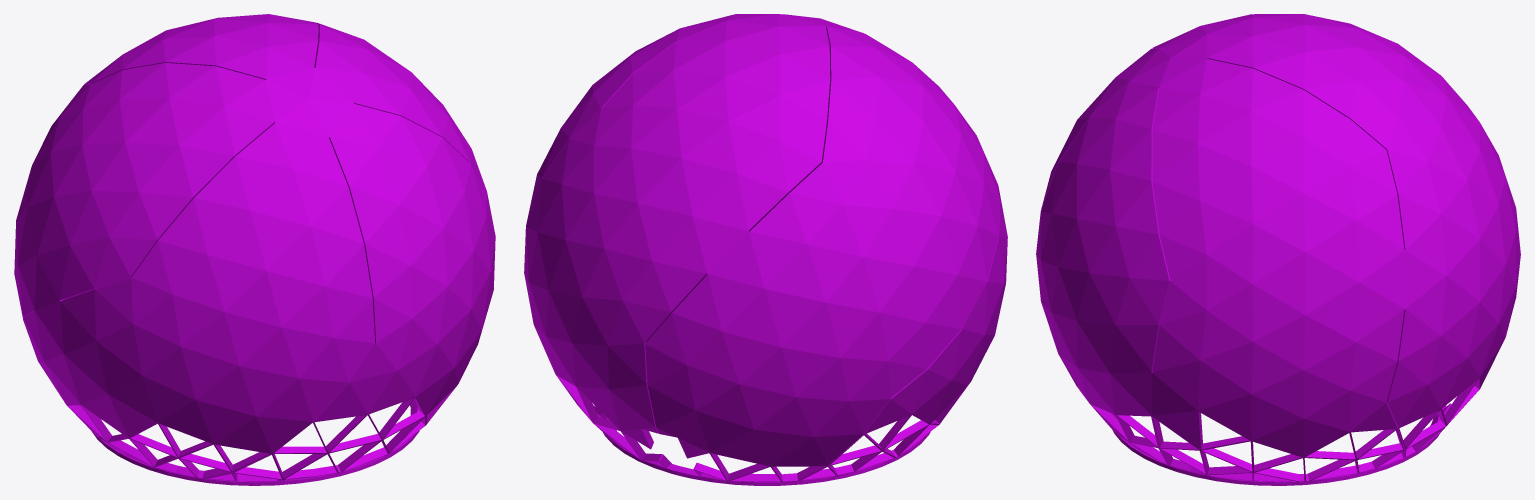
File: Tberg.glb
3 renders of one model, left to right at view 1: azimuth 30°, elevation 25°; view 2: azimuth 150°, elevation 25°; view 3: azimuth 270°, elevation 25°, orthographic.
Parts seen in each view (by area): view 1: Tberg Dome.STL; view 2: Tberg Dome.STL; view 3: Tberg Dome.STL.
Part boxes in pixels (bbox=[...]): Tberg Dome.STL: bbox=[14, 14, 495, 485]; Tberg Dome.STL: bbox=[524, 14, 1007, 485]; Tberg Dome.STL: bbox=[1036, 14, 1520, 485].
Bounding box in the file's own units: 117 × 102 × 118.
